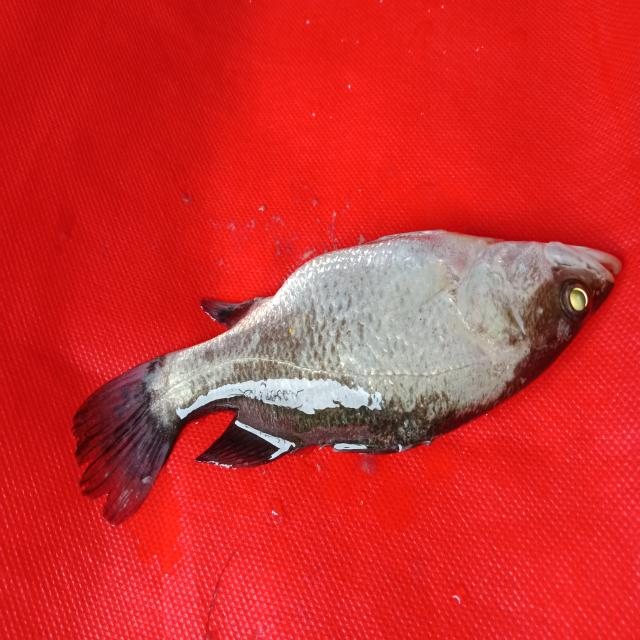ikan: (56, 205, 628, 533)
